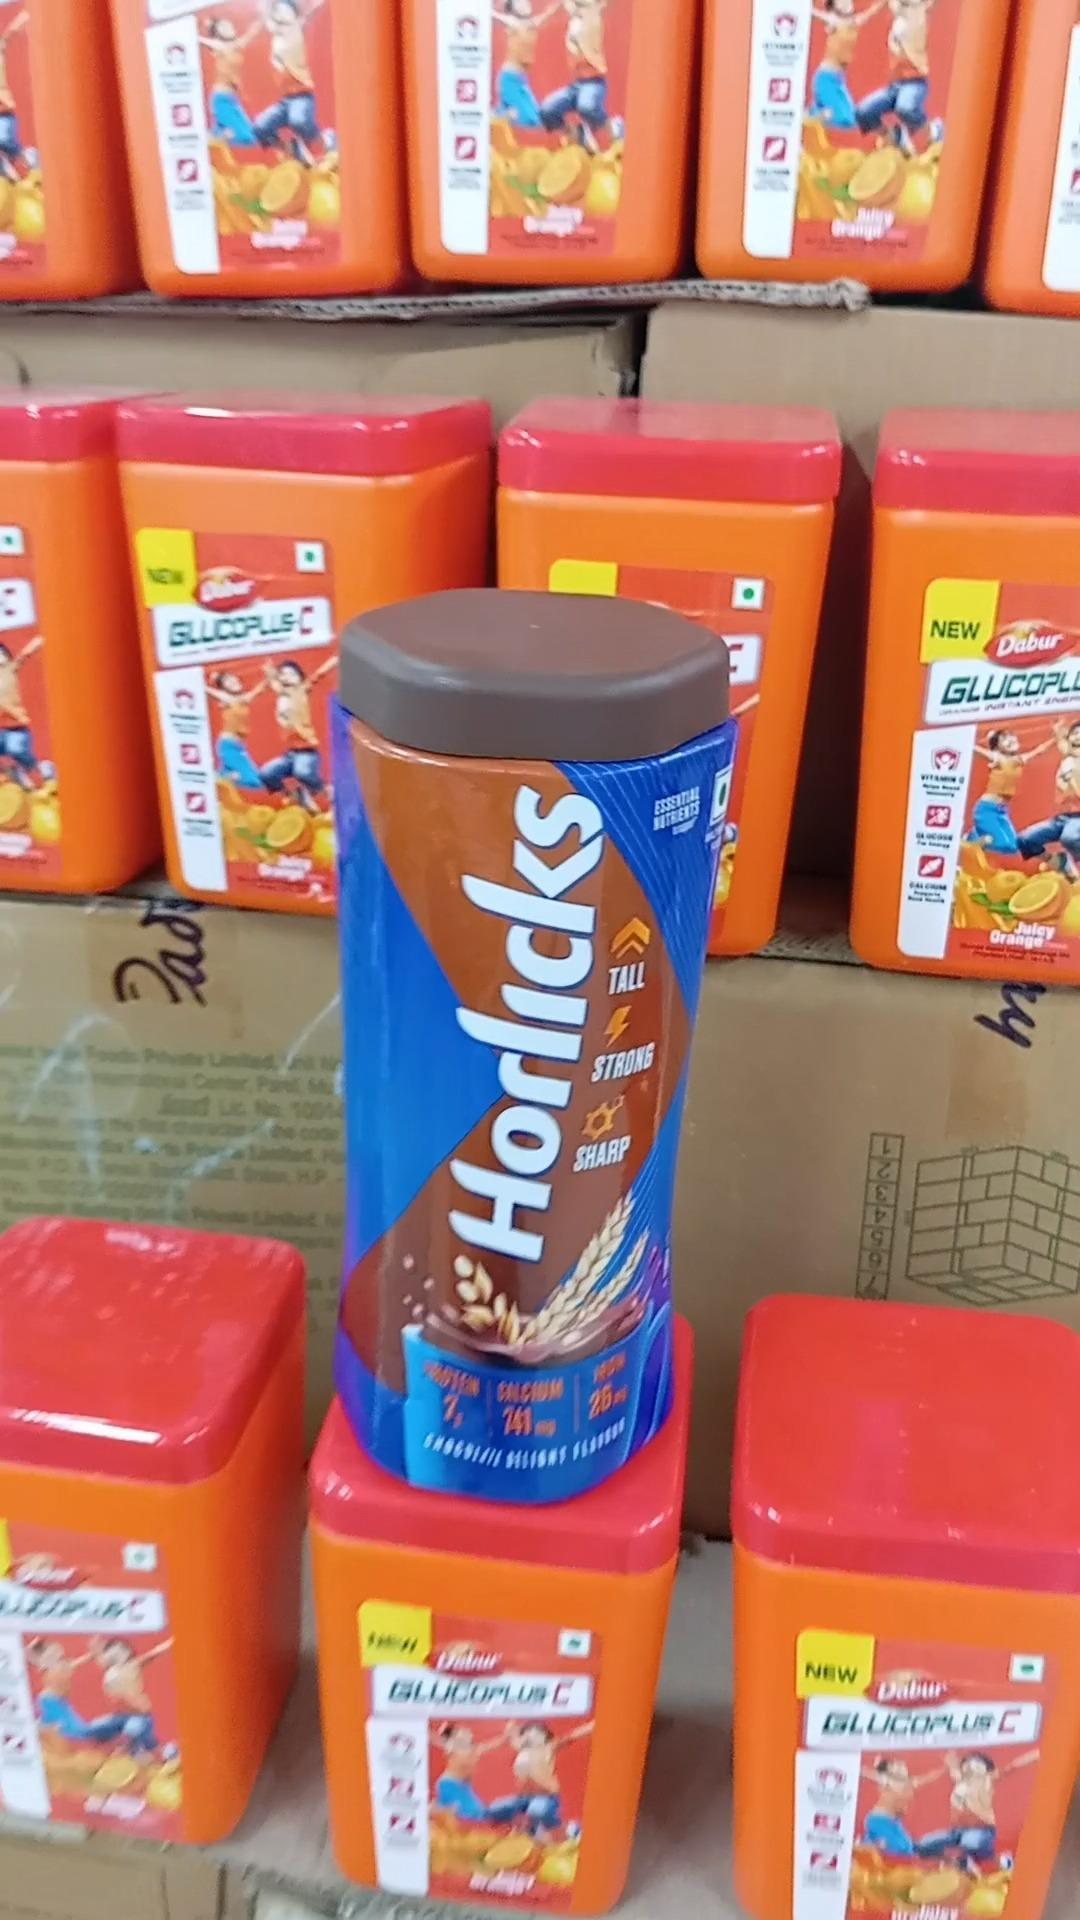HORLICK_CHOCOLATE_1_KG_JAR: (336, 583, 732, 1495)
